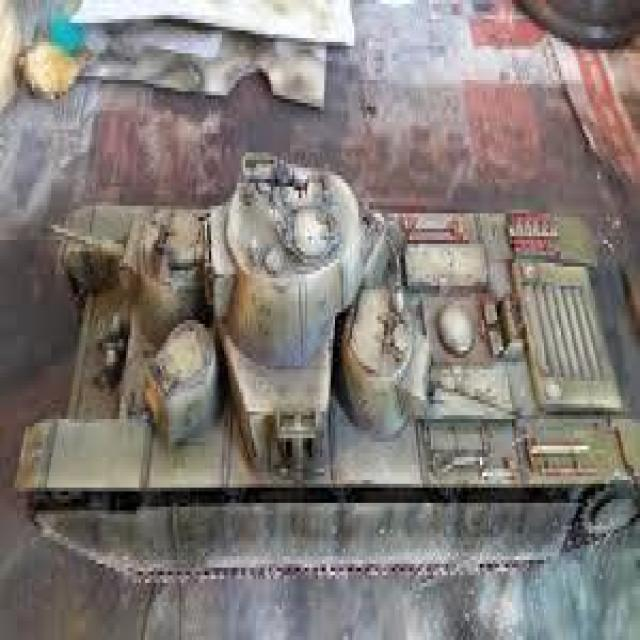MIL_MBT: (13, 150, 634, 604)
